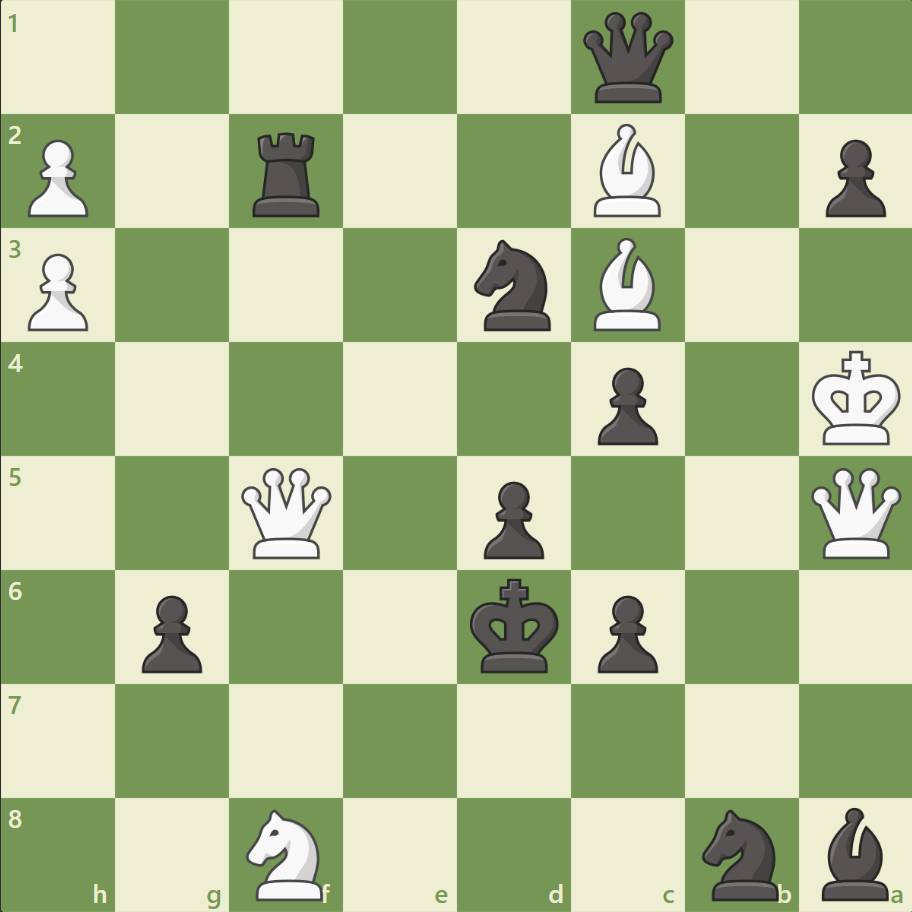B: (585, 233, 669, 336), (585, 120, 669, 222)
K: (806, 344, 906, 452)
N: (238, 802, 335, 904)
P: (20, 246, 95, 337), (20, 132, 95, 223)
Q: (805, 463, 904, 562), (237, 463, 336, 562)
b: (812, 801, 896, 904)
k: (465, 571, 565, 679)
n: (465, 234, 562, 337), (692, 802, 789, 904)
p: (133, 586, 208, 677), (474, 473, 549, 564), (588, 586, 662, 677), (588, 359, 662, 450), (815, 132, 889, 223)
q: (578, 9, 677, 108)
r: (246, 125, 329, 222)
